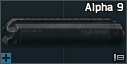Alpha Dog Alpha 9 9x19 sound suppressor: (0, 0, 127, 64)
